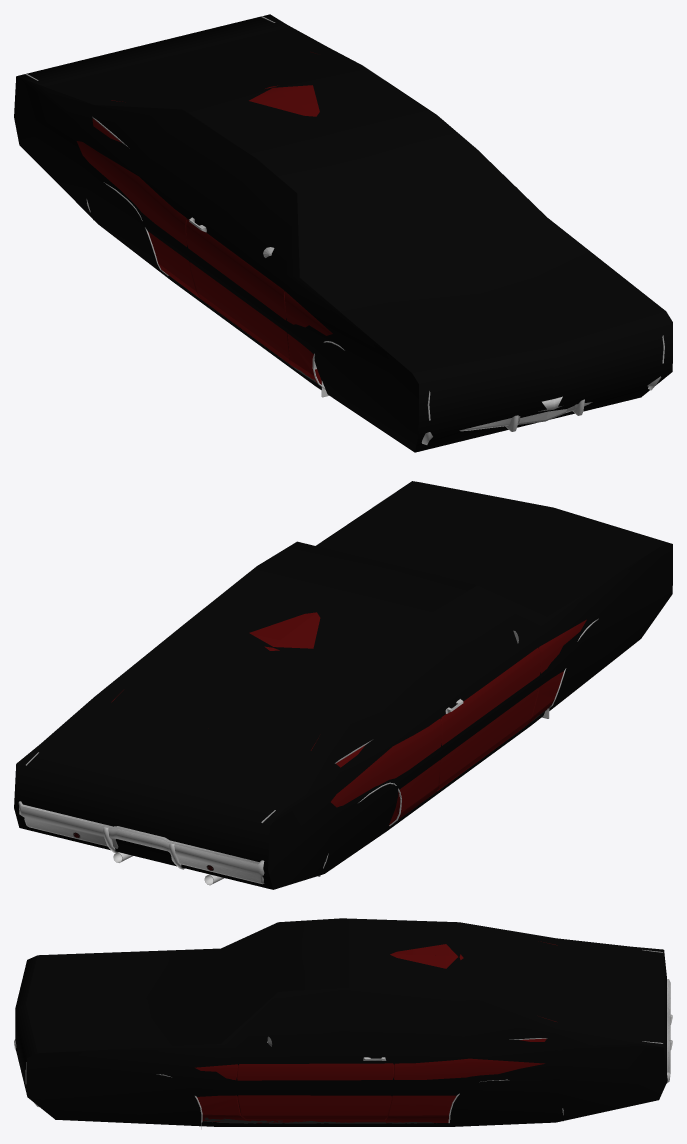
The model's file is Muscle_06.FBX.
3 views of the same model, one above another, from view 1: azimuth 30°, elevation 25°; view 2: azimuth 150°, elevation 25°; view 3: azimuth 270°, elevation 25° (orthographic). The views are drawn at different scales.
Parts seen in each view (by area): view 1: Object001, car_body; view 2: Object001, car_body; view 3: Object001, car_body.
Boxes of the visible parts, x1=… form: Object001: x1=14, y1=14, x2=672, y2=452; car_body: x1=25, y1=16, x2=664, y2=444; Object001: x1=14, y1=481, x2=672, y2=889; car_body: x1=18, y1=612, x2=598, y2=885; Object001: x1=15, y1=918, x2=667, y2=1126; car_body: x1=14, y1=941, x2=672, y2=1123.
Bounding box in the file's own units: 27.89 × 76.73 × 17.3.
